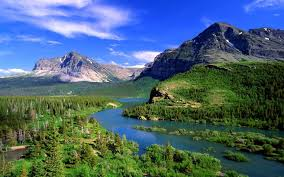field: (6, 87, 284, 173)
mountain: (152, 25, 284, 113), (3, 50, 143, 83)
sky: (1, 1, 195, 60)
